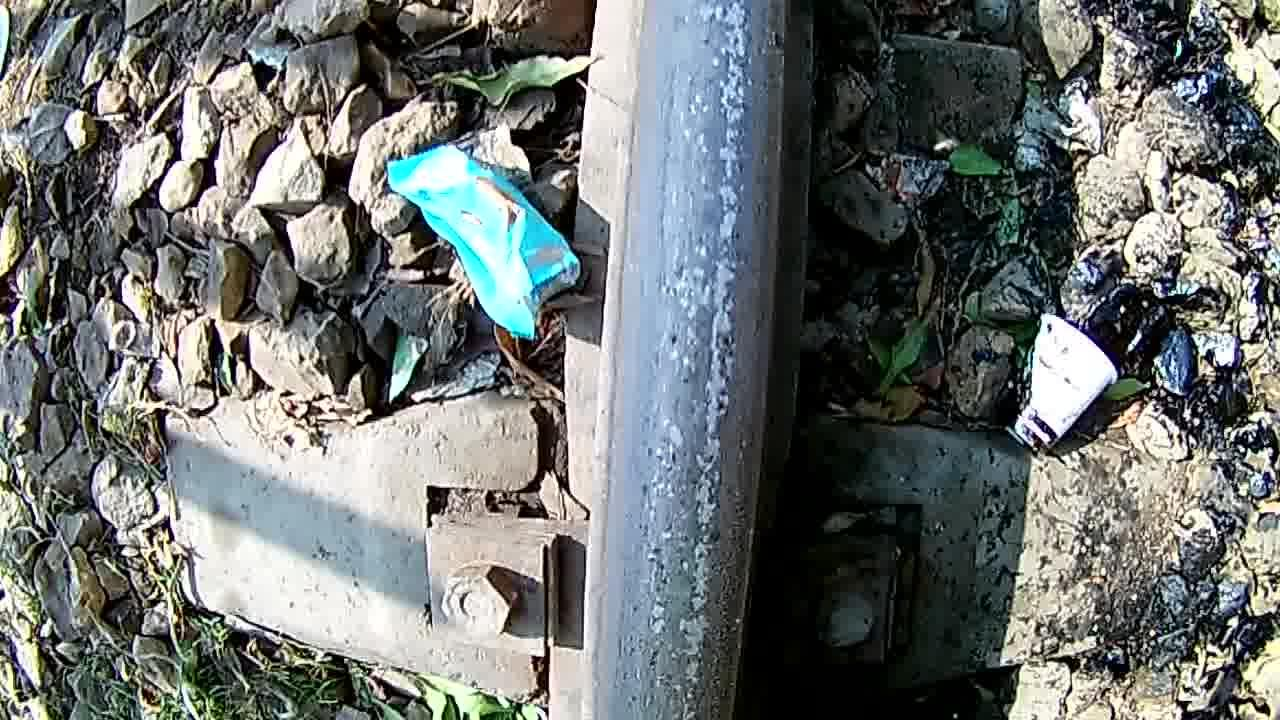clip_missing: (614, 1, 804, 720)
